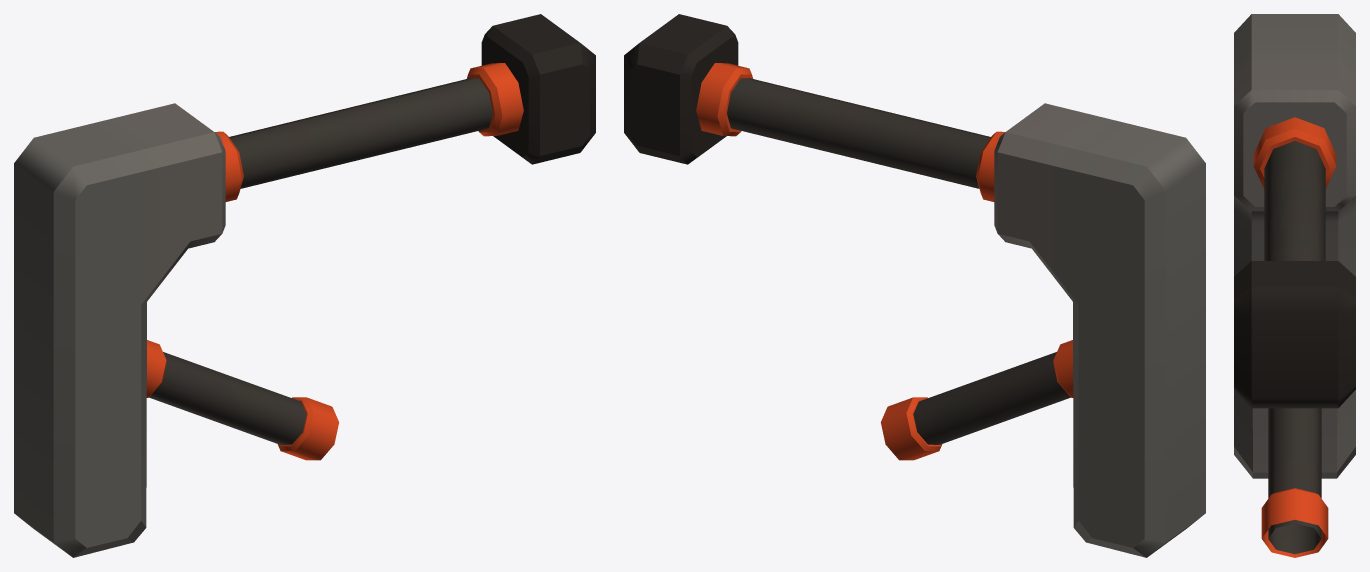
Rendered from SMG5_ButtstockLight.fbx.
3 views of the same model, side by side, from view 1: azimuth 30°, elevation 25°; view 2: azimuth 150°, elevation 25°; view 3: azimuth 270°, elevation 25° (orthographic). The views are drawn at different scales.
Parts seen in each view (by area): view 1: SMG5_ButtstockLight; view 2: SMG5_ButtstockLight; view 3: SMG5_ButtstockLight.
Part boxes in pixels (x1,y1,x2,y2): SMG5_ButtstockLight: (14, 14, 595, 557); SMG5_ButtstockLight: (624, 14, 1205, 557); SMG5_ButtstockLight: (1234, 14, 1355, 557).
Size of the model in its own units: 18.03 by 12.44 by 3.18.
